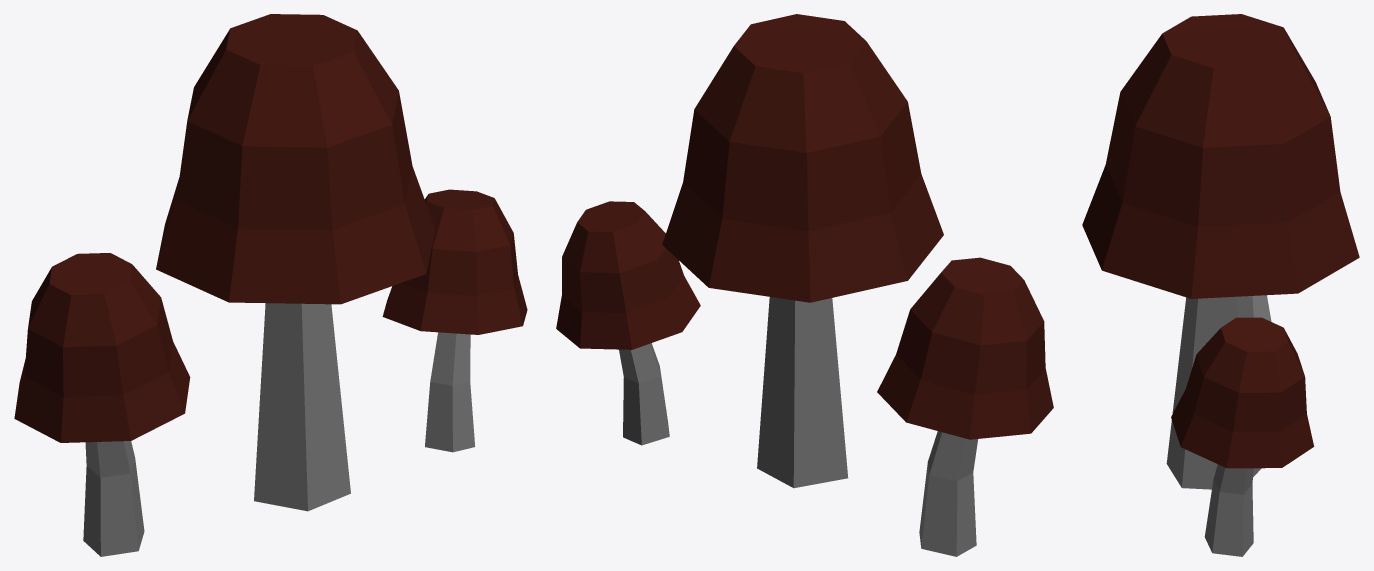
File: Mushroom_04.obj
3 renders of one model, left to right at view 1: azimuth 30°, elevation 25°; view 2: azimuth 150°, elevation 25°; view 3: azimuth 270°, elevation 25°, orthographic. The views are drawn at different scales.
Parts seen in each view (by area): view 1: Mushroom_04_Cylinder.007; view 2: Mushroom_04_Cylinder.007; view 3: Mushroom_04_Cylinder.007.
Part boxes in pixels (left/top/right/bottom): Mushroom_04_Cylinder.007: left=14, top=14, right=527, bottom=556; Mushroom_04_Cylinder.007: left=556, top=14, right=1053, bottom=556; Mushroom_04_Cylinder.007: left=1082, top=14, right=1359, bottom=556.
Bounding box in the file's own units: 1.09 × 1 × 0.5473.
